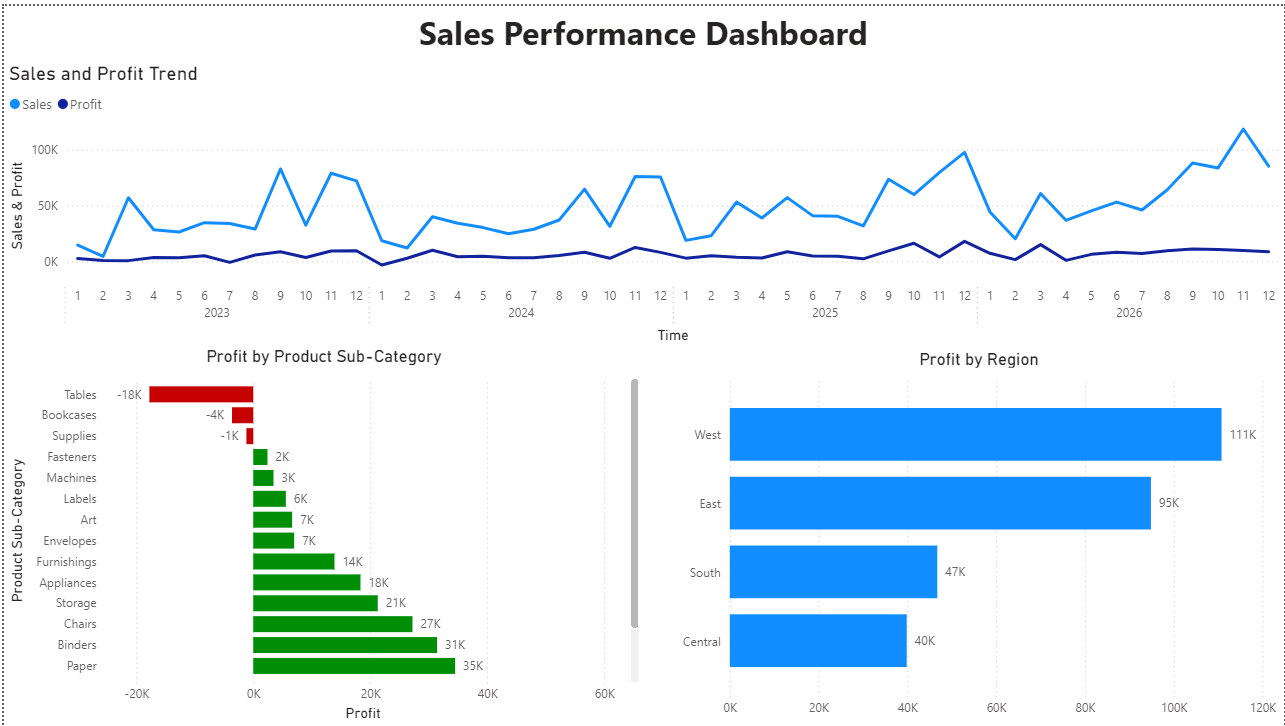

The dashboard page shown, as its layout file describes it:
{"tool":"powerbi","page":{"name":"Page 1","canvas":[1280,720],"ordinal":0},"visuals":[{"type":"lineChart","title":"Sales and Profit Trend","fields":{"Category":["sales_trend.year","sales_trend.month"],"Y":["Sum(sales_trend.total_sales)","Sum(sales_trend.total_profit)"]},"box":[0,56.2,1280,280],"z":0},{"type":"clusteredBarChart","title":"Profit by Product Sub-Category","fields":{"Category":["category_performance.sub_category"],"Y":["Sum(category_performance.total_profit)"]},"box":[0,340,607.5,335],"z":1},{"type":"clusteredBarChart","title":"Profit by Region","fields":{"Category":["regional_performance.region"],"Y":["Sum(regional_performance.total_profit)"]},"box":[670,342.5,572.5,332.5],"z":2},{"type":"textbox","box":[406.2,0,466.2,56.2],"z":3}]}

Visuals, with their boxes in screenshot pixels (x1, y1, x2, y2), scaled from the page's 1280x720 canvas onto the 1285x726 screenshot:
"Sales and Profit Trend" lineChart: 0/57/1284/339
"Profit by Product Sub-Category" clusteredBarChart: 0/343/610/681
"Profit by Region" clusteredBarChart: 673/345/1247/681
textbox: 408/0/876/57
